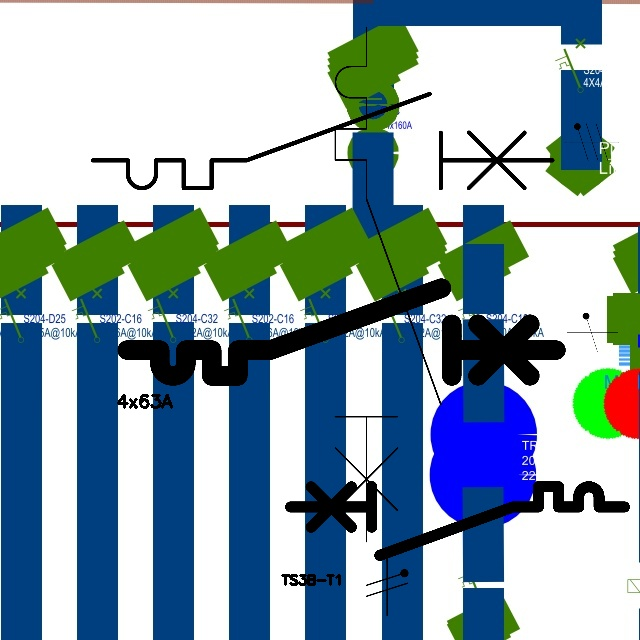interruptor_termomagnetico: (322, 14, 454, 555), (81, 82, 564, 200), (116, 277, 567, 387), (282, 478, 633, 564)
